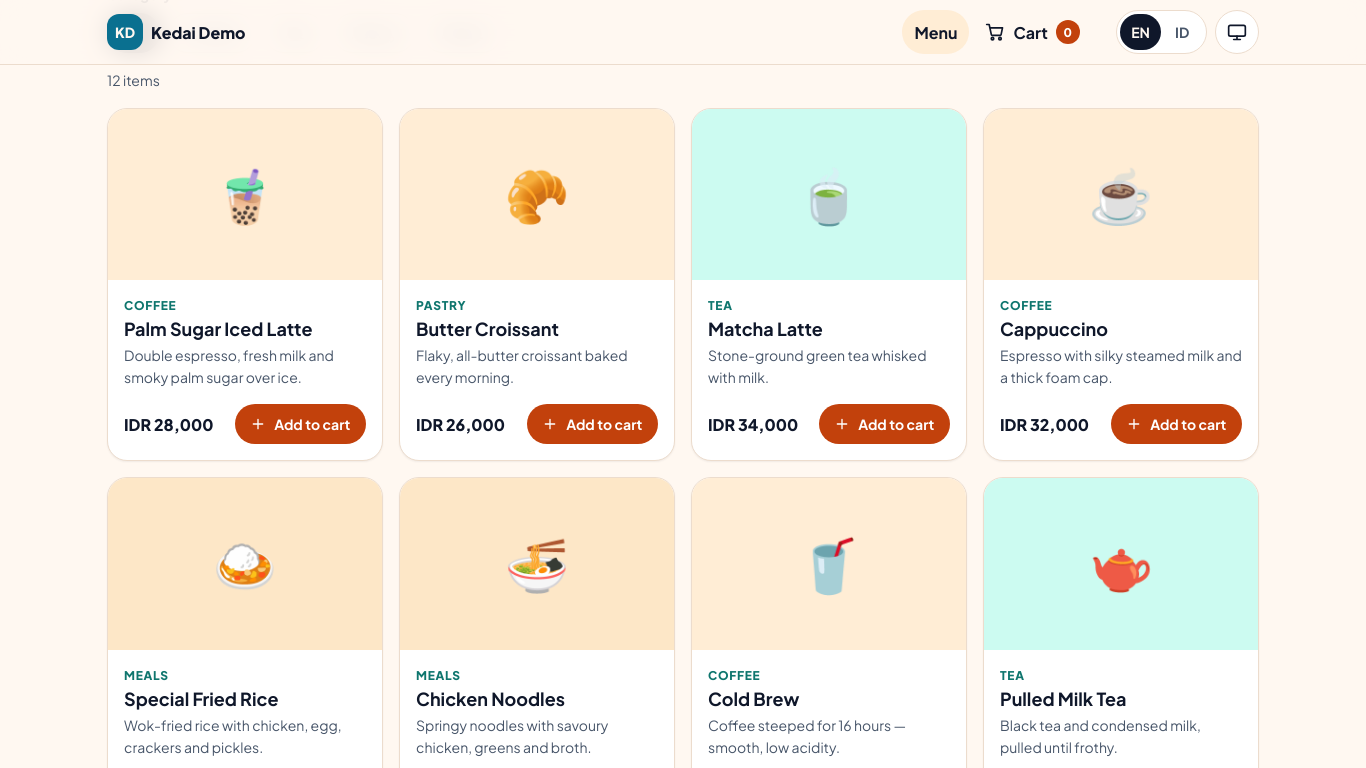
Test: cart › adds a product, updates the cart count, announces it and saves it
(page scrolled)
Click the button with aria-label "Add Cappuccino to cart".
click(1176, 424)  # box [1111,404,1242,444]
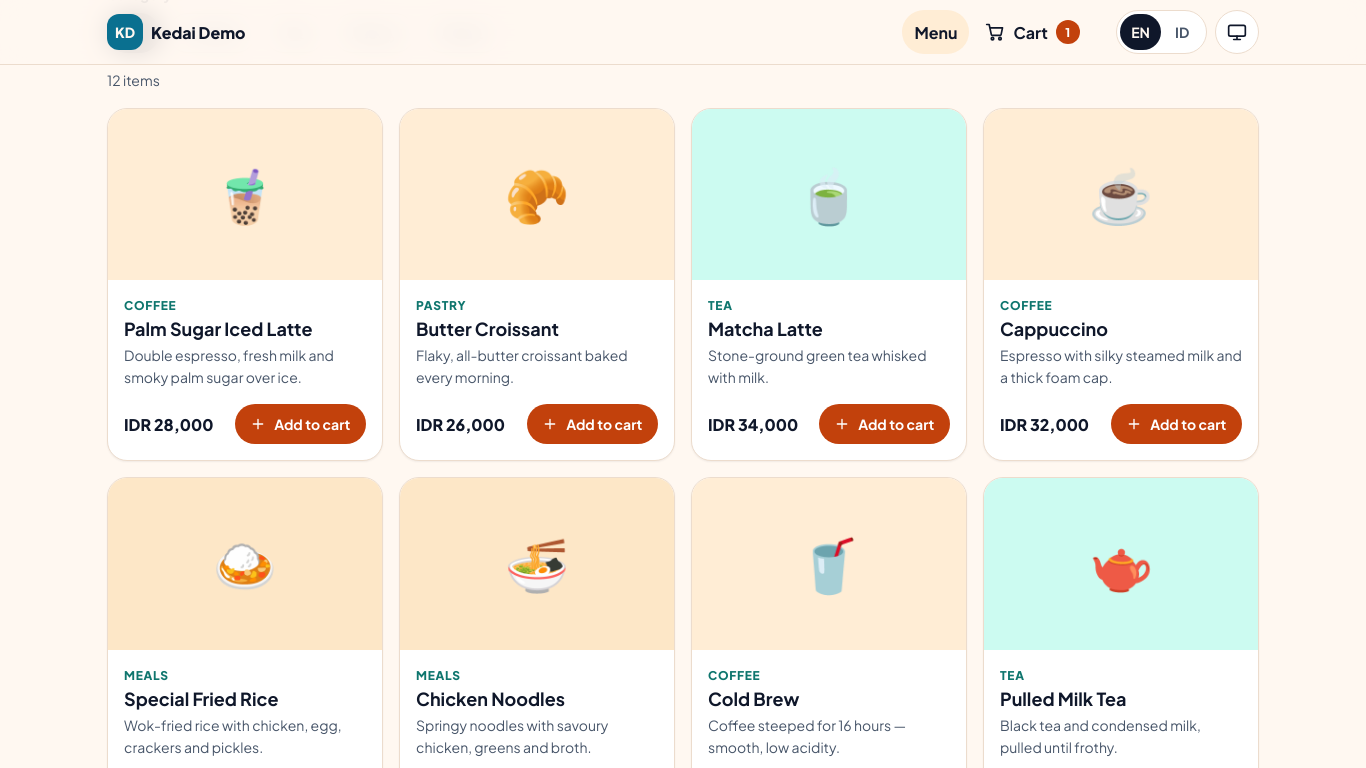
Expected: the link with aria-label "Cart, 1 item" is shown, [986,20,1080,44]
